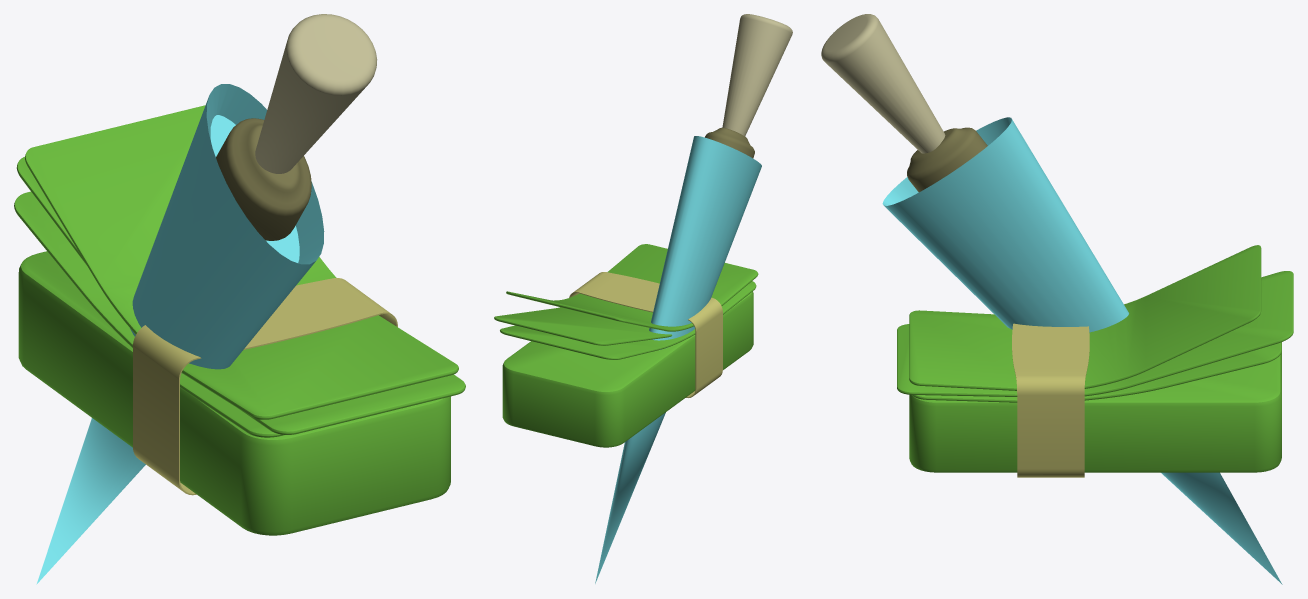
File: para_notr.fbx
3 views of the same model, side by side, from view 1: azimuth 30°, elevation 25°; view 2: azimuth 150°, elevation 25°; view 3: azimuth 270°, elevation 25° (orthographic). The views are drawn at different scales.
Parts seen in each view (by area): view 1: Plane, Plane.004, Circle, Plane.005, Circle.002, Circle.001, Plane.002, Plane.003; view 2: Plane, Circle, Circle.002, Plane.004, Plane.005, Plane.003, Plane.002, Circle.001; view 3: Circle, Plane, Plane.004, Plane.005, Circle.002, Plane.003, Plane.002, Circle.001.
Boxes of the visible parts, left/top/right/bottom form: Plane: left=18, top=251, right=450, bottom=535; Plane.004: left=25, top=105, right=458, bottom=419; Circle: left=36, top=84, right=324, bottom=584; Plane.005: left=133, top=278, right=397, bottom=495; Circle.002: left=255, top=14, right=377, bottom=173; Circle.001: left=216, top=118, right=311, bottom=240; Plane.002: left=14, top=191, right=283, bottom=437; Plane.003: left=16, top=157, right=465, bottom=434; Plane: left=502, top=291, right=753, bottom=447; Circle: left=595, top=136, right=761, bottom=583; Circle.002: left=722, top=14, right=792, bottom=136; Plane.004: left=506, top=244, right=758, bottom=331; Plane.005: left=569, top=272, right=722, bottom=397; Plane.003: left=494, top=307, right=672, bottom=345; Plane.002: left=500, top=281, right=756, bottom=359; Circle.001: left=705, top=127, right=754, bottom=158; Circle: left=882, top=117, right=1282, bottom=584; Plane: left=909, top=351, right=1281, bottom=472; Plane.004: left=909, top=245, right=1261, bottom=390; Plane.005: left=1012, top=323, right=1089, bottom=477; Circle.002: left=821, top=14, right=945, bottom=153; Plane.003: left=897, top=271, right=1293, bottom=396; Plane.002: left=912, top=342, right=1281, bottom=402; Circle.001: left=907, top=127, right=987, bottom=192.
Size of the model in its own units: 353 by 1181 by 893.
